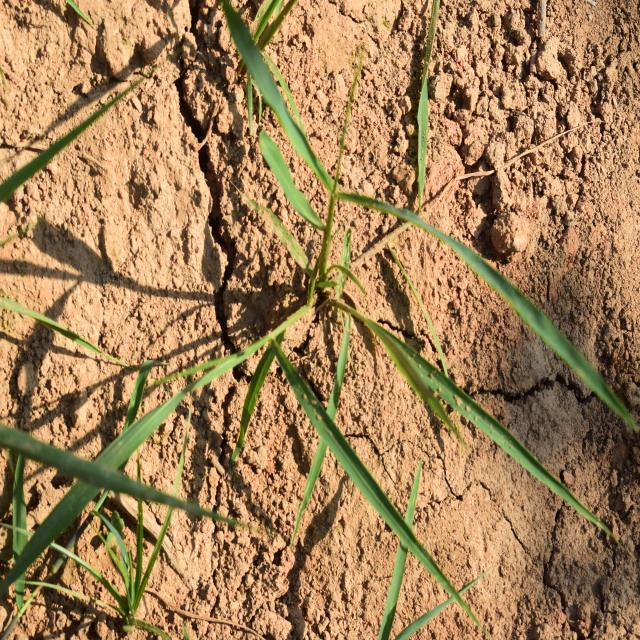green_foxtail: (60, 283, 518, 581), (254, 64, 524, 336)
